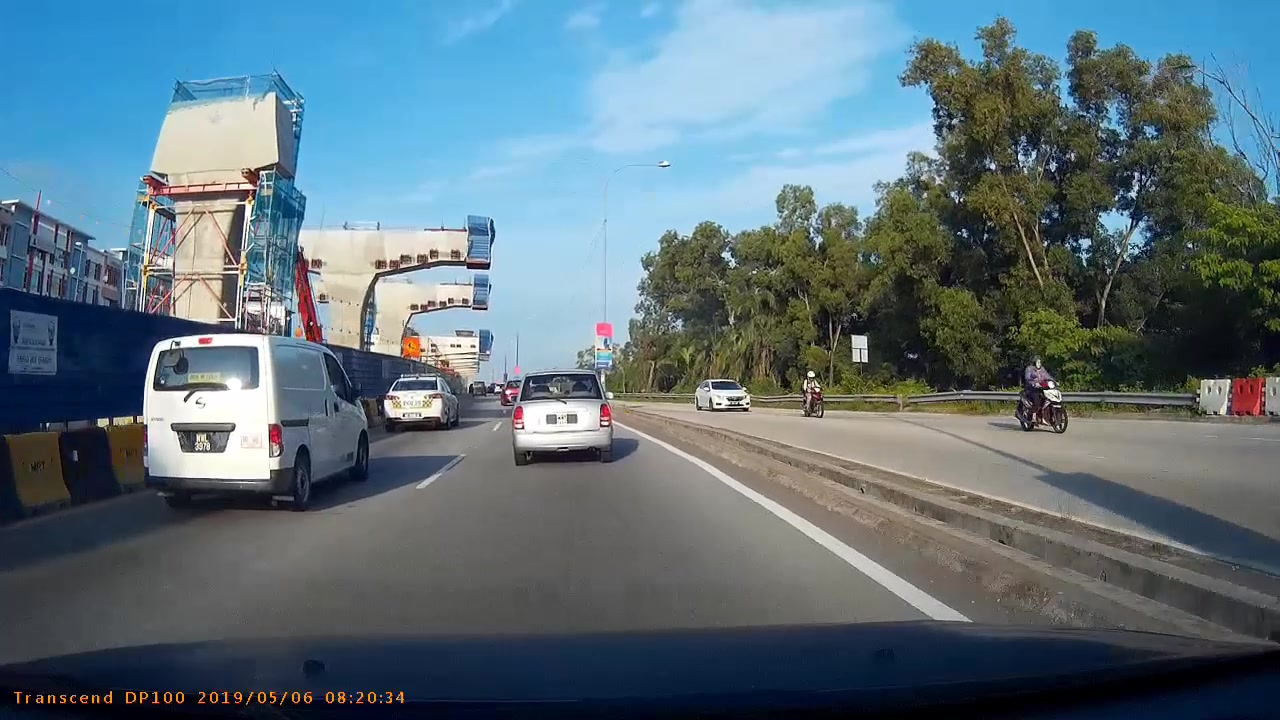license-plate: (192, 433, 211, 450)
